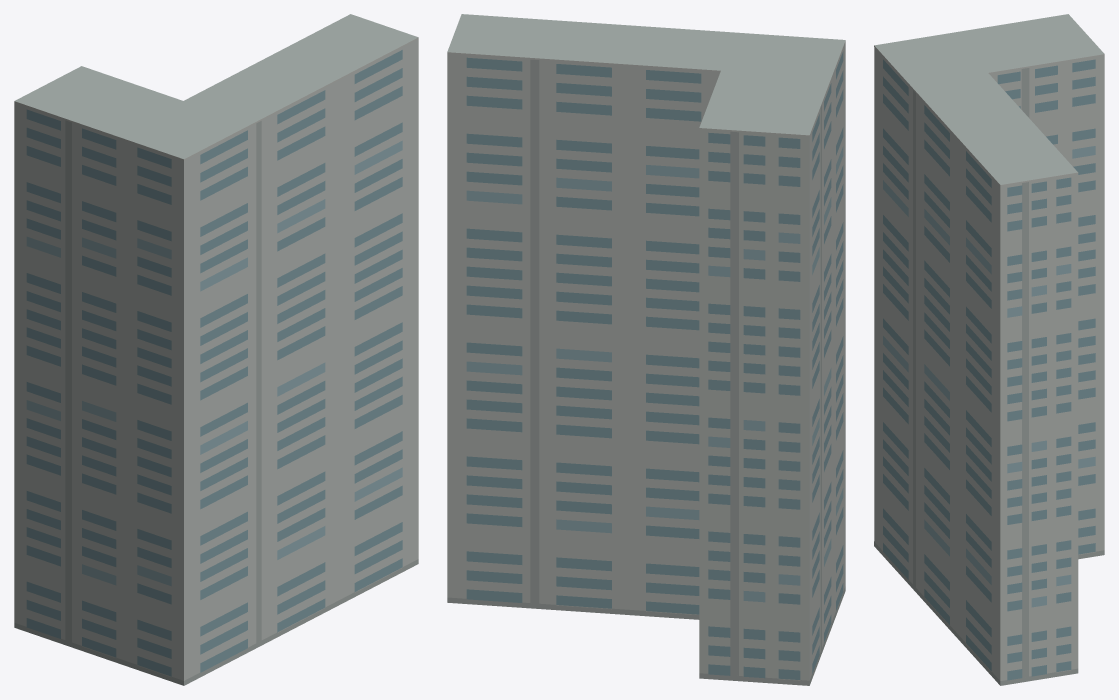
The model's file is residential-5b90b67b-0eb2-498d-a775-e60461a3e7c5.glb.
3 renders of one model, left to right at view 1: azimuth 30°, elevation 25°; view 2: azimuth 150°, elevation 25°; view 3: azimuth 270°, elevation 25°, orthographic. The views are drawn at different scales.
Parts seen in each view (by area): view 1: residential-5b90b67b-0eb2-498d-a775-e60461a3e7c5.tmp; view 2: residential-5b90b67b-0eb2-498d-a775-e60461a3e7c5.tmp; view 3: residential-5b90b67b-0eb2-498d-a775-e60461a3e7c5.tmp.
Boxes of the visible parts, x1,y1,x2,y2 form: residential-5b90b67b-0eb2-498d-a775-e60461a3e7c5.tmp: (14,14,418,685); residential-5b90b67b-0eb2-498d-a775-e60461a3e7c5.tmp: (447,14,845,685); residential-5b90b67b-0eb2-498d-a775-e60461a3e7c5.tmp: (874,14,1104,685).
Bounding box in the file's own units: 60.08 × 82 × 34.23.
